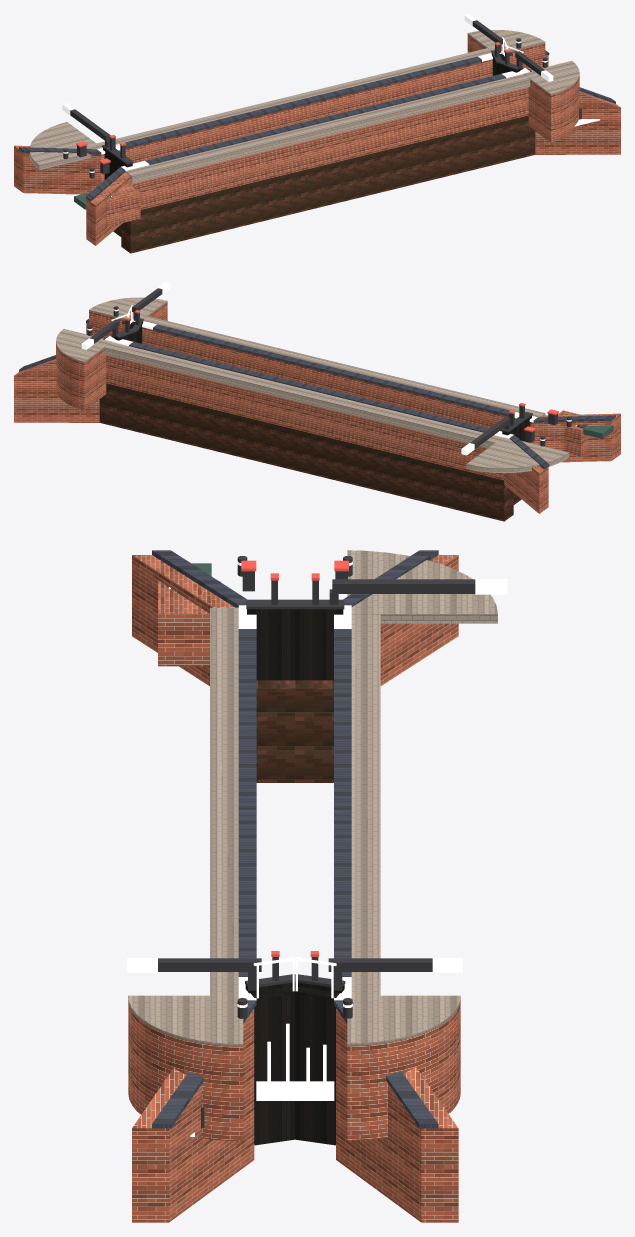
The model's file is lock-48.glb.
3 views of the same model, one above another, from view 1: azimuth 30°, elevation 25°; view 2: azimuth 150°, elevation 25°; view 3: azimuth 270°, elevation 25° (orthographic). The views are drawn at different scales.
Parts seen in each view (by area): view 1: Chamber, ChamberWet, Edge, Coping.001, TopGateCap, Coping, TopGate; view 2: Chamber, ChamberWet, Edge, Coping.001, TopGateCap, Coping, TopGate; view 3: Chamber, Edge, Coping.001, TopGate, TopGateCap, ChamberWet, Coping, Leak.
Part boxes in pixels (bbox=[...]): Chamber: bbox=[14, 34, 620, 245]; ChamberWet: bbox=[113, 115, 535, 253]; Edge: bbox=[29, 30, 579, 183]; Coping.001: bbox=[19, 50, 615, 201]; TopGateCap: bbox=[63, 20, 581, 178]; Coping: bbox=[62, 14, 553, 172]; TopGate: bbox=[103, 53, 523, 179]; Chamber: bbox=[14, 302, 620, 513]; ChamberWet: bbox=[99, 383, 521, 521]; Edge: bbox=[56, 297, 569, 473]; Coping.001: bbox=[19, 319, 615, 469]; TopGateCap: bbox=[87, 288, 571, 448]; Coping: bbox=[81, 282, 571, 455]; TopGate: bbox=[111, 321, 531, 442]; Chamber: bbox=[128, 555, 460, 1222]; Edge: bbox=[128, 550, 497, 1046]; Coping.001: bbox=[152, 550, 438, 1128]; TopGate: bbox=[245, 609, 344, 1145]; TopGateCap: bbox=[158, 556, 475, 1128]; ChamberWet: bbox=[256, 680, 333, 782]; Coping: bbox=[127, 561, 507, 1007]; Leak: bbox=[169, 587, 334, 1136].
Size of the model in its own units: 32.82 by 5.82 by 10.24.
11 materials, 8 textured.
